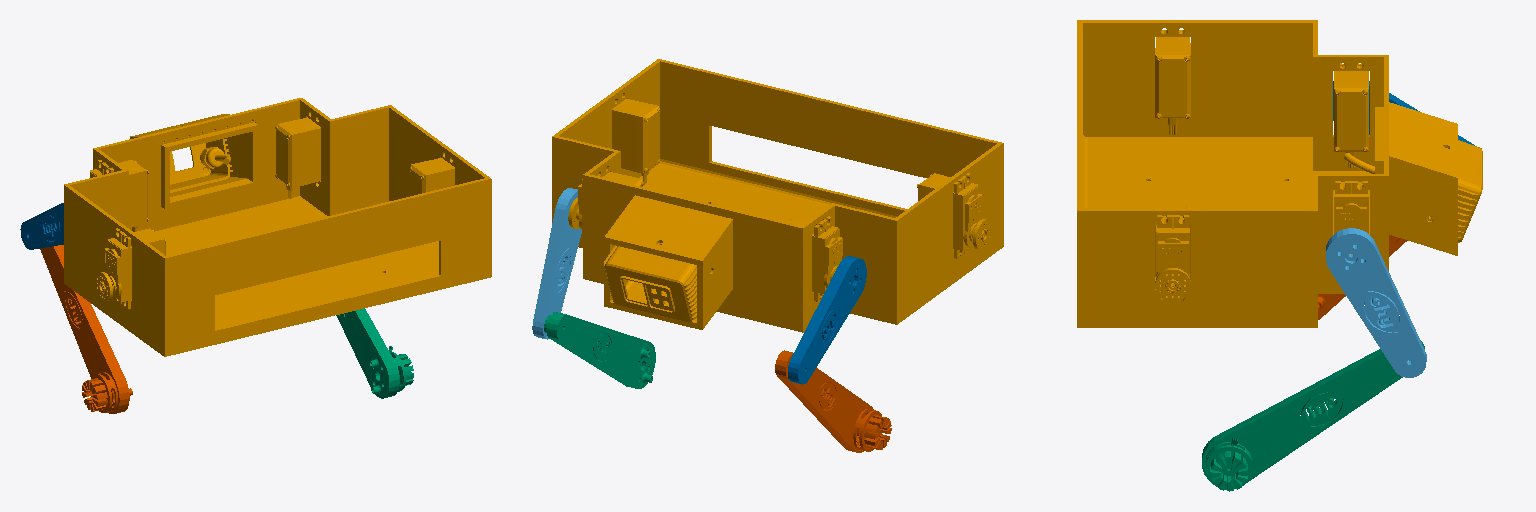
robot.urdf — car_open:
<?xml version="1.0" encoding="utf-8"?>
<robot name="car_open">
  <!-- 由 car_closed.xml 派生的等价开链模型。
       每侧: hip(75mm) -> knee(125mm) -> wheel，串联 2R，运动学与五连杆精确等价。
       自动生成，请勿手工编辑。 -->
  <link name="base">
    <inertial><origin xyz="-0.07933812364 -0.02885379808 0.03075910492" rpy="0 0 0"/><mass value="0.4277185558"/>
      <inertia ixx="0.001155975354" ixy="7.334507103e-06" ixz="1.327744555e-06" iyy="0.002235431321" iyz="2.1396203e-05" izz="0.00300496858"/></inertial>
    <visual><origin xyz="0 0 0" rpy="0 0 0"/><geometry><mesh filename="../meshes/base.STL"/></geometry></visual>
    <collision><origin xyz="0 0 0" rpy="0 0 0"/><geometry><mesh filename="../meshes/base.STL"/></geometry></collision>
  </link>
  <link name="RightUpper_link">
    <inertial><origin xyz="0.02498108523 -0.05644204829 -0.02380222856" rpy="0 0 0"/><mass value="0.03444411227"/><inertia ixx="0.0001971172658" ixy="5.652247271e-05" ixz="-2.963863407e-06" iyy="3.562691195e-05" iyz="7.867956096e-06" izz="0.0001996134071"/></inertial>
    <visual><origin xyz="0 0 0" rpy="0 0 0"/><geometry><mesh filename="../meshes/RightFrontUpper.STL"/></geometry></visual>
    <collision><origin xyz="0.001567380066 0.01674691876 -0.03355280483" rpy="-2.678648271 0 0"/><geometry><cylinder radius="0.005" length="0.051"/></geometry></collision>
  </link>
  <link name="RightLower_link">
    <inertial><origin xyz="0.02116558915 -0.09944179288 -0.03647572428" rpy="0 0 0"/><mass value="0.0556210955"/><inertia ixx="0.000196757863" ixy="7.434020255e-05" ixz="-1.157482149e-05" iyy="0.000101814022" iyz="9.843508262e-06" izz="0.000212965402"/></inertial>
    <visual><origin xyz="0 0 0" rpy="0 0 0"/><geometry><mesh filename="../meshes/RightFrontLower.STL"/></geometry></visual>
    <collision><origin xyz="-0.007290200947 -0.05206742216 -0.03457214991" rpy="2.156942261 0 0"/><geometry><cylinder radius="0.005" length="0.101"/></geometry></collision>
  </link>
  <link name="RightWheel_link">
    <inertial><origin xyz="0.00392179 1.87685e-07 -3.70967e-07" rpy="0 0 0"/><mass value="0.0339959"/>
      <inertia ixx="2.07024e-05" ixy="1.002099853e-10" ixz="1.399829063e-11" iyy="1.254113584e-05" iyz="-6.323464915e-10" izz="1.253886416e-05"/></inertial>
    <visual><origin xyz="0 0 0" rpy="0 0 0"/><geometry><mesh filename="../meshes/RightWheel_link.STL"/></geometry></visual>
    <collision><origin xyz="0 0 0" rpy="0 1.5707963268 0"/><geometry><cylinder radius="0.0325" length="0.018"/></geometry></collision>
  </link>
  <joint name="RightHip_joint" type="revolute">
    <origin xyz="0.0229 0.022468 0.033" rpy="0 0 0"/>
    <parent link="base"/><child link="RightUpper_link"/>
    <axis xyz="1 0 0"/>
    <limit lower="-1.2" upper="1.2" effort="1.96" velocity="20"/>
  </joint>
  <joint name="RightKnee_joint" type="revolute">
    <origin xyz="-1.009609063e-15 0.03349383753 -0.06710560966" rpy="0 0 0"/>
    <parent link="RightUpper_link"/><child link="RightLower_link"/>
    <axis xyz="1 0 0"/>
    <limit lower="-2.0" upper="2.0" effort="1.96" velocity="20"/>
  </joint>
  <joint name="RightWheel_joint" type="revolute">
    <origin xyz="0.027 -0.1041348443 -0.06914429982" rpy="0 0 0"/>
    <parent link="RightLower_link"/><child link="RightWheel_link"/>
    <axis xyz="-1 0 0"/>
    <limit lower="-1000" upper="1000" effort="0.5" velocity="140"/>
  </joint>
  <link name="LeftUpper_link">
    <inertial><origin xyz="-0.02498108523 -0.04594305054 -0.0211517534" rpy="0 0 0"/><mass value="0.03444411227"/><inertia ixx="0.0002092709978" ixy="-5.839488539e-05" ixz="-4.570800628e-06" iyy="3.37484499e-05" iyz="-1.416784575e-05" izz="0.0002136456011"/></inertial>
    <visual><origin xyz="0 0 0" rpy="0 0 0"/><geometry><mesh filename="../meshes/LeftFrontUpper.STL"/></geometry></visual>
    <collision><origin xyz="-0.001567380066 0.03241167216 -0.01886089892" rpy="-2.097813283 0 0"/><geometry><cylinder radius="0.005" length="0.051"/></geometry></collision>
  </link>
  <link name="LeftLower_link">
    <inertial><origin xyz="-0.02116558915 -0.09555158843 -0.05374019083" rpy="0 0 0"/><mass value="0.0556210955"/><inertia ixx="0.0002092402836" ixy="-7.985477455e-05" ixz="-6.4777436e-06" iyy="9.543470961e-05" iyz="-1.91041455e-05" izz="0.000231827135"/></inertial>
    <visual><origin xyz="0 0 0" rpy="0 0 0"/><geometry><mesh filename="../meshes/LeftFrontLower.STL"/></geometry></visual>
    <collision><origin xyz="0.007290200947 -0.04670222825 -0.04153494765" rpy="2.297700032 0 0"/><geometry><cylinder radius="0.005" length="0.101"/></geometry></collision>
  </link>
  <link name="LeftWheel_link">
    <inertial><origin xyz="-0.00392209 -3.10465e-07 2.3112e-06" rpy="0 0 0"/><mass value="0.0339969"/>
      <inertia ixx="2.069609995e-05" ixy="-7.735318088e-11" ixz="6.53213163e-10" iyy="1.254022639e-05" iyz="1.824204048e-09" izz="1.253367366e-05"/></inertial>
    <visual><origin xyz="0 0 0" rpy="0 0 0"/><geometry><mesh filename="../meshes/LeftWheel_link.STL"/></geometry></visual>
    <collision><origin xyz="0 0 0" rpy="0 1.5707963268 0"/><geometry><cylinder radius="0.0325" length="0.018"/></geometry></collision>
  </link>
  <joint name="LeftHip_joint" type="revolute">
    <origin xyz="-0.1844 0.022468 0.033" rpy="0 0 0"/>
    <parent link="base"/><child link="LeftUpper_link"/>
    <axis xyz="-1 0 0"/>
    <limit lower="-1.2" upper="1.2" effort="1.96" velocity="20"/>
  </joint>
  <joint name="LeftKnee_joint" type="revolute">
    <origin xyz="0 0.06482334431 -0.03772179784" rpy="0 0 0"/>
    <parent link="LeftUpper_link"/><child link="LeftLower_link"/>
    <axis xyz="1 0 0"/>
    <limit lower="-2.0" upper="2.0" effort="1.96" velocity="20"/>
  </joint>
  <joint name="LeftWheel_joint" type="revolute">
    <origin xyz="-0.027 -0.09340445651 -0.0830698953" rpy="0 0 0"/>
    <parent link="LeftLower_link"/><child link="LeftWheel_link"/>
    <axis xyz="1 0 0"/>
    <limit lower="-1000" upper="1000" effort="0.5" velocity="140"/>
  </joint>
</robot>

--- Facts derived from the render (not from the file) ---
Views: 3 orthographic renders of the robot side by side, from view 1: azimuth 30°, elevation 25°; view 2: azimuth 150°, elevation 25°; view 3: azimuth 270°, elevation 25°.
Robot: car_open — 7 links, 6 joints (6 revolute); root link base; default pose: all joints at 0.
Visible links, largest first — view 1: base, LeftLower_link, RightLower_link, LeftUpper_link; view 2: base, LeftLower_link, RightLower_link, LeftUpper_link, RightUpper_link; view 3: base, RightLower_link, RightUpper_link, LeftLower_link.
Link boxes in pixels (bbox=[...]): base: bbox=[64, 98, 491, 356]; LeftLower_link: bbox=[40, 245, 132, 413]; RightLower_link: bbox=[336, 308, 413, 398]; LeftUpper_link: bbox=[20, 203, 63, 249]; base: bbox=[552, 59, 1003, 332]; LeftLower_link: bbox=[775, 350, 891, 452]; RightLower_link: bbox=[544, 312, 655, 388]; LeftUpper_link: bbox=[788, 256, 866, 384]; RightUpper_link: bbox=[532, 188, 581, 339]; base: bbox=[1077, 20, 1482, 327]; RightLower_link: bbox=[1202, 341, 1424, 491]; RightUpper_link: bbox=[1326, 228, 1426, 377]; LeftLower_link: bbox=[1318, 235, 1407, 319].
Bounding box of the posed robot: 0.2964 × 0.2343 × 0.1922 m (x, y, z).
Meshes: 7 distinct files referenced, 5 mesh visuals loaded (5 binary STL); not drawn: 2 (reference not matched to a file when rendering).
